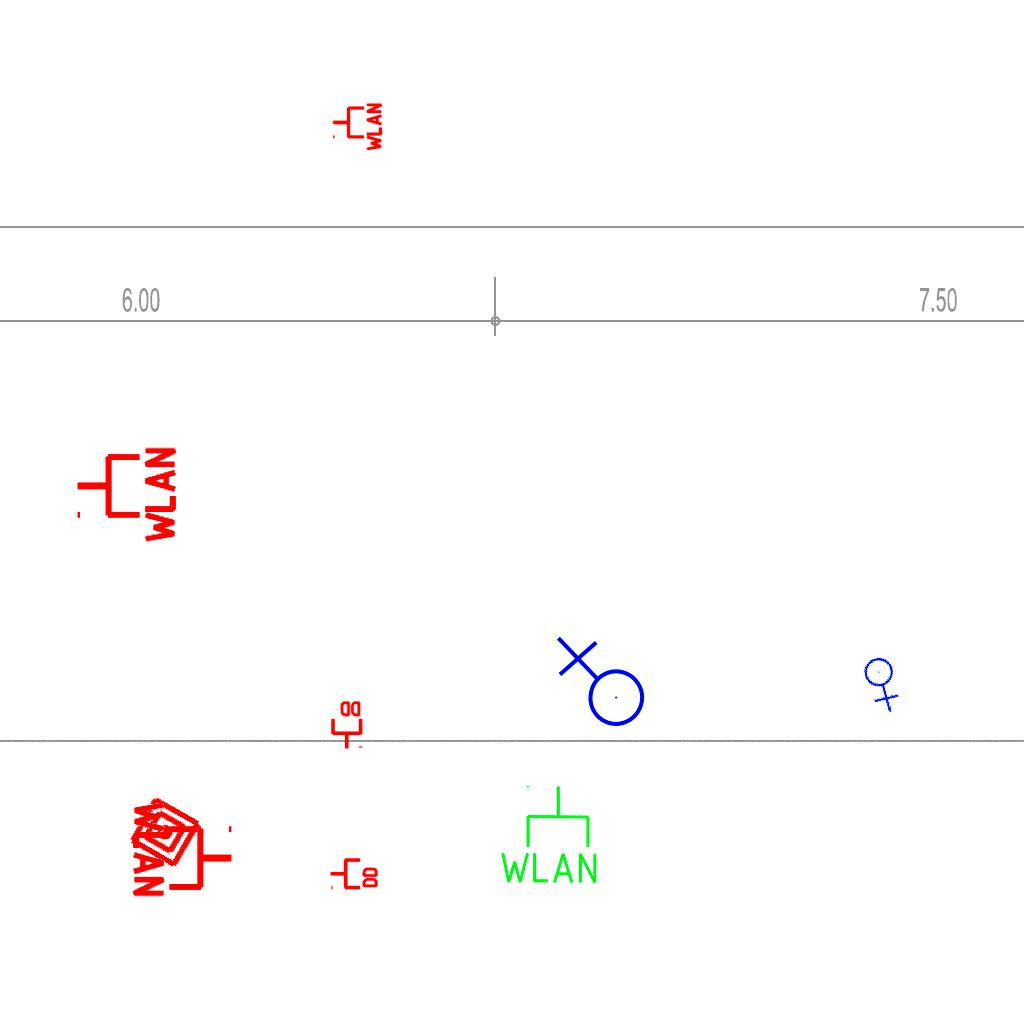Datenanschluss_zweifach: (329, 856, 380, 890), (329, 699, 363, 750)
Elektroanschluss_allgemein_230V_Geraeteanschlussdose_230V: (552, 636, 646, 735), (851, 648, 916, 715)
NAM-Nichtautomatischer_Melder: (126, 793, 204, 871)
WLAN: (496, 783, 601, 887), (73, 443, 178, 547), (131, 797, 236, 901), (331, 101, 383, 153)
